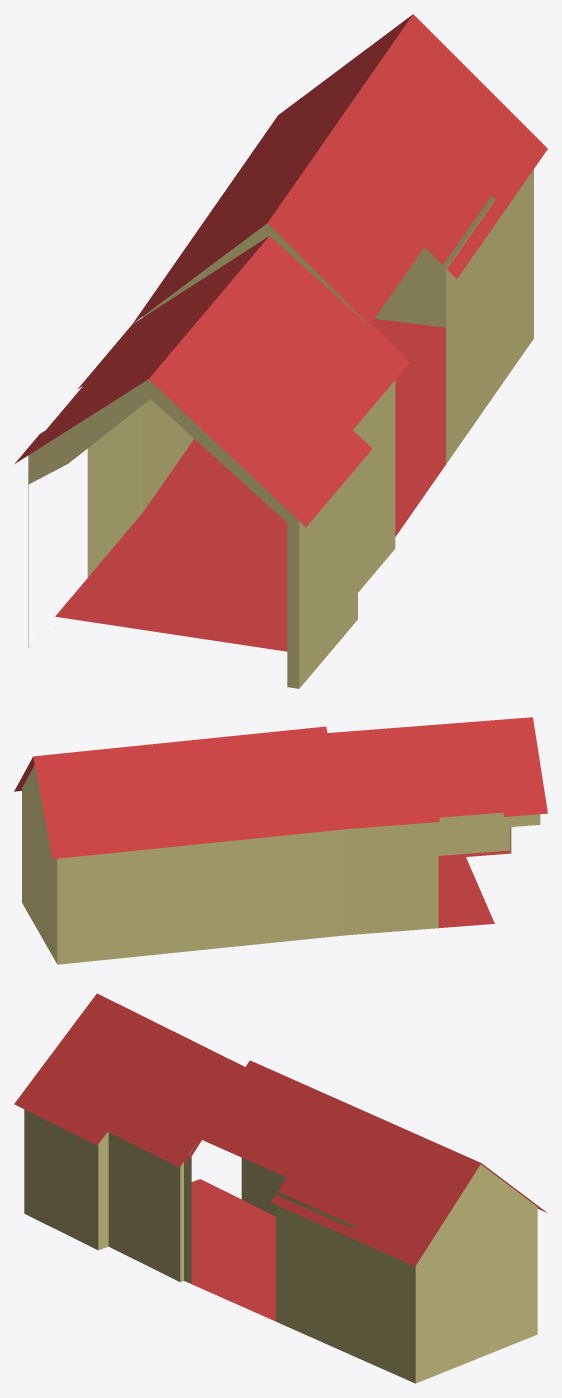
The picture shows the model from 3 angles, top to bottom: view 1: azimuth 30°, elevation 25°; view 2: azimuth 150°, elevation 25°; view 3: azimuth 270°, elevation 25°; orthographic projection. The views are drawn at different scales.
Size of the model in its own units: 36.91 by 36.2 by 14.84.
